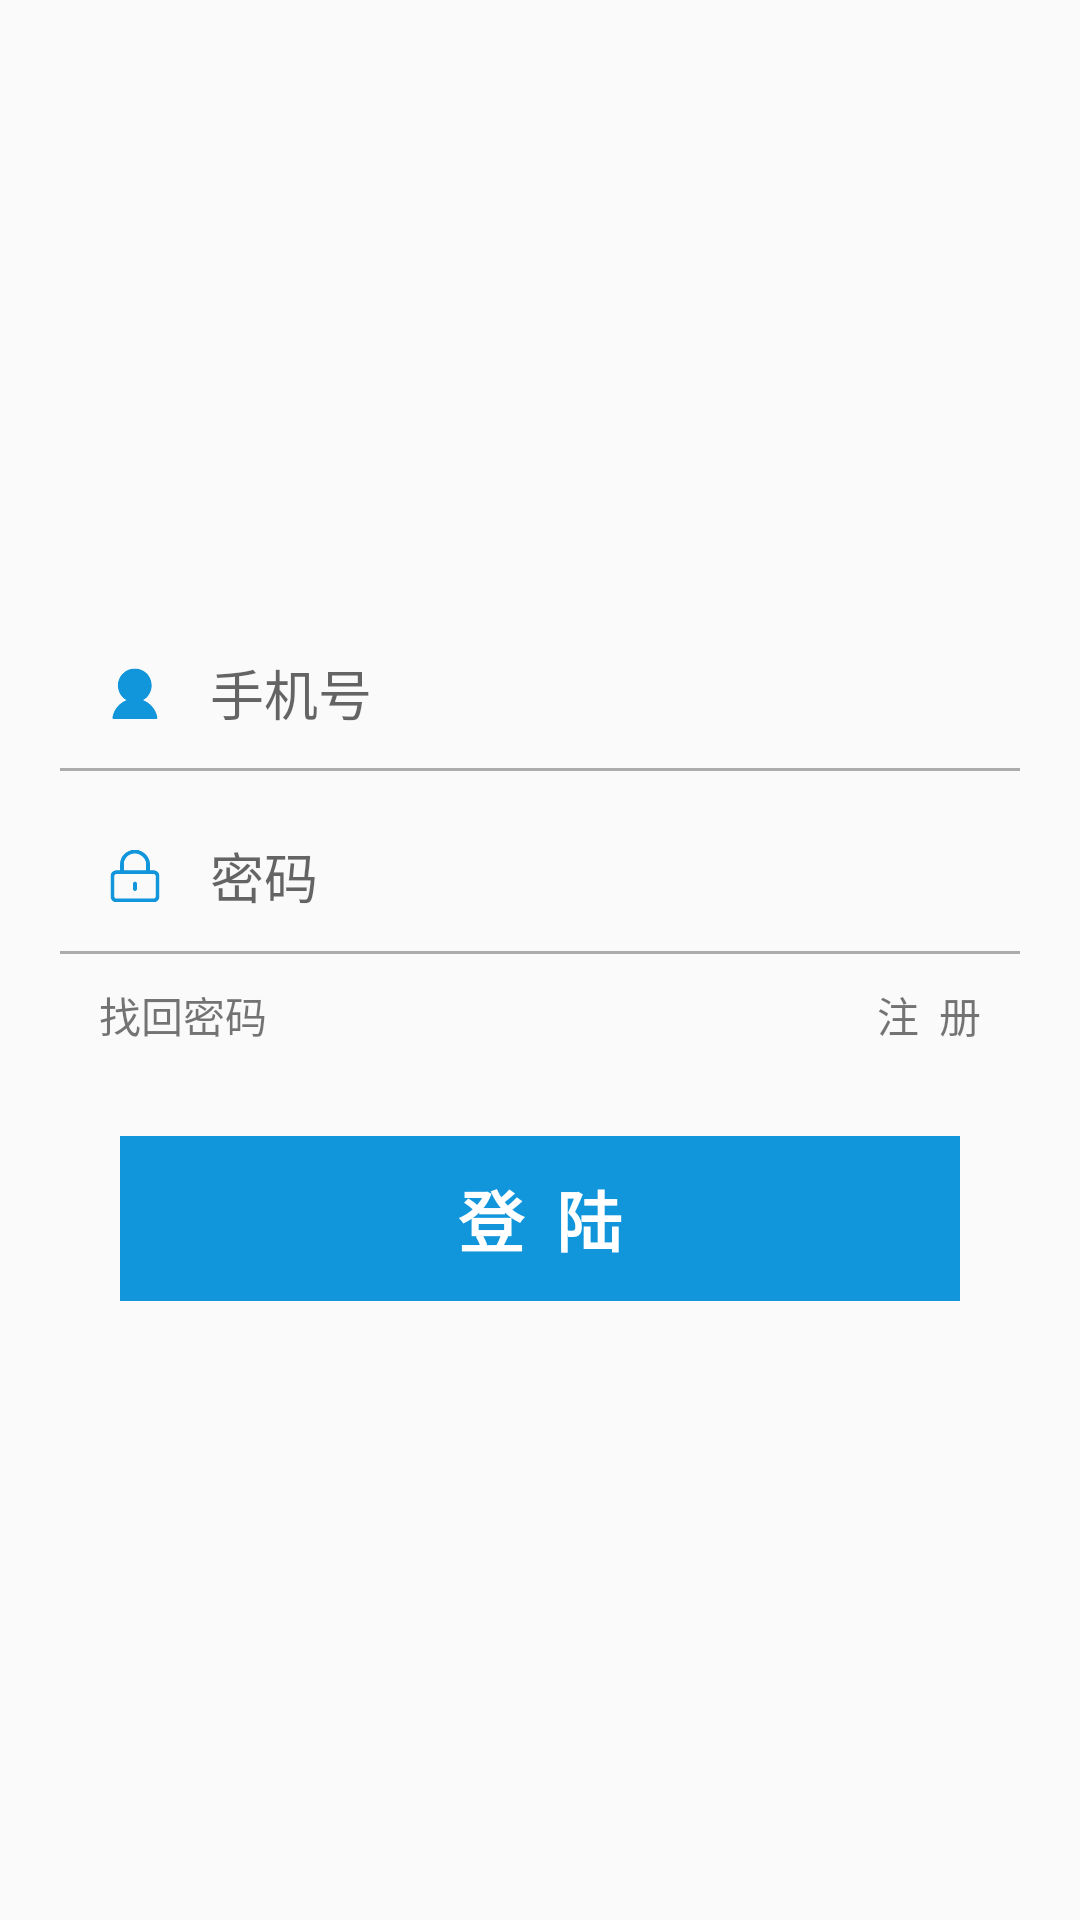

Screen size 1080px x 1920px. Icon name, then its box in pixels as (left=x1, top=y1, right=x2, bottom=y2):
lock: (left=110, top=850, right=160, bottom=902)
user: (left=112, top=668, right=158, bottom=719)
